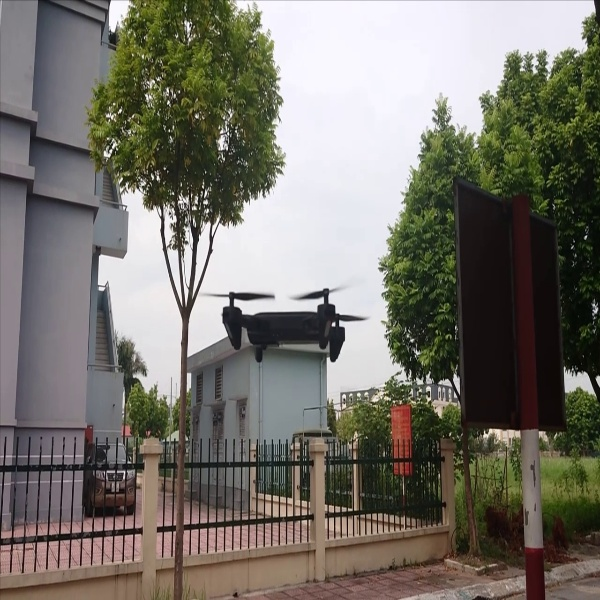drone: (197, 275, 378, 367)
